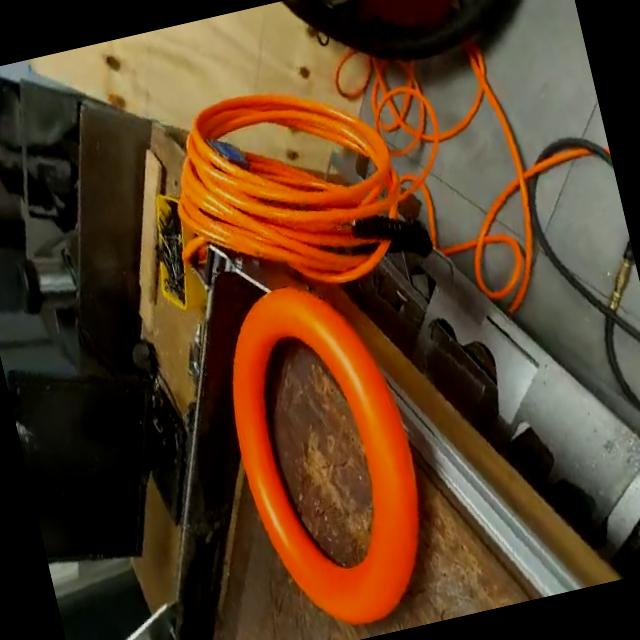note: (202, 268, 450, 640)
